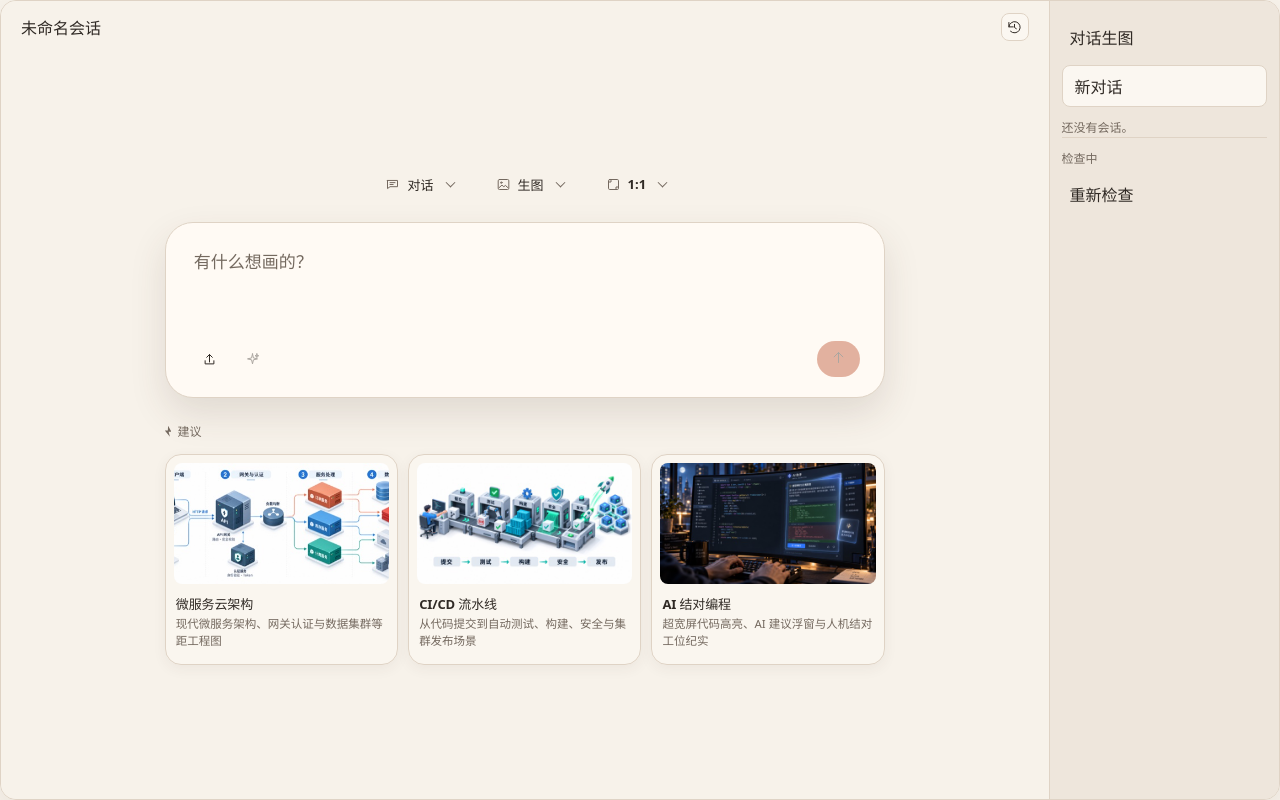
Test: ImagesPage › only lists slash-free chat models from readiness
Click the button with aria-label "新建会话" at coordinates (1164, 86), box [1062,65,1267,107]
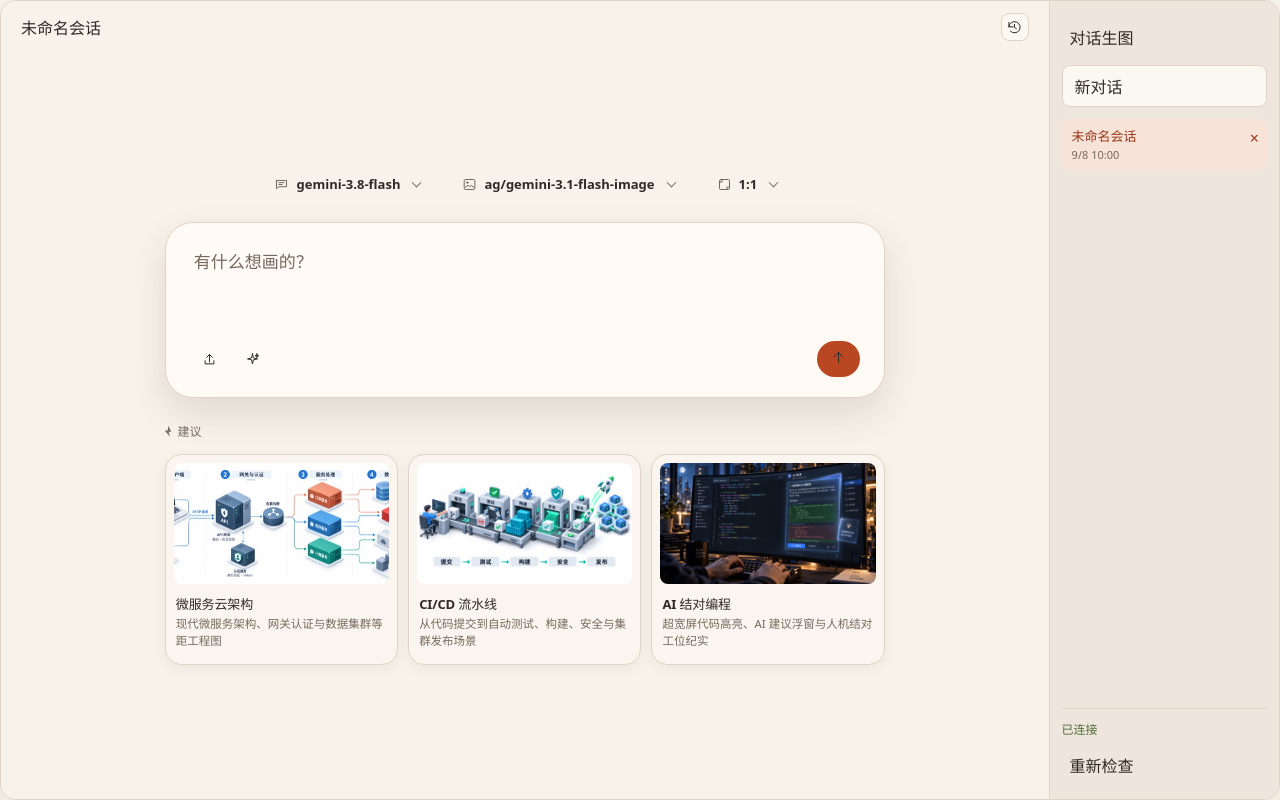
Expected: the label named "对话模型" does not show "ag/", [274,175,400,193]
Result: the label named "对话模型" reads "gemini-3.8-flash" at [296,175,400,193]
